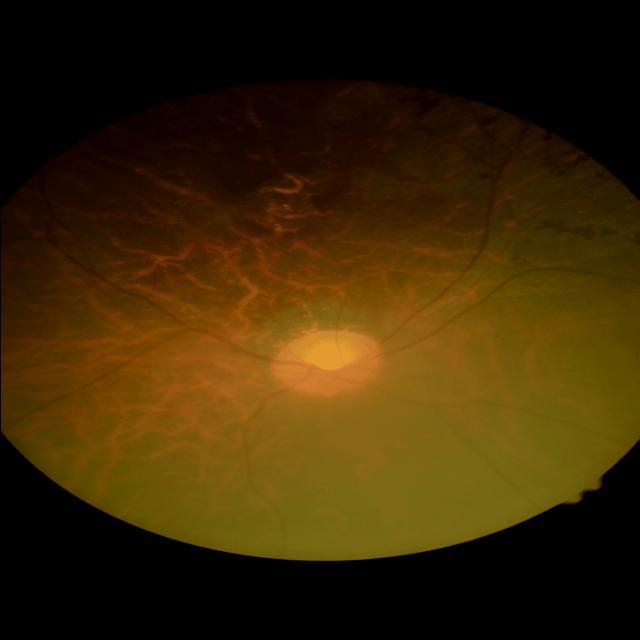cup: (286, 340, 368, 372)
disk: (268, 332, 386, 399)
